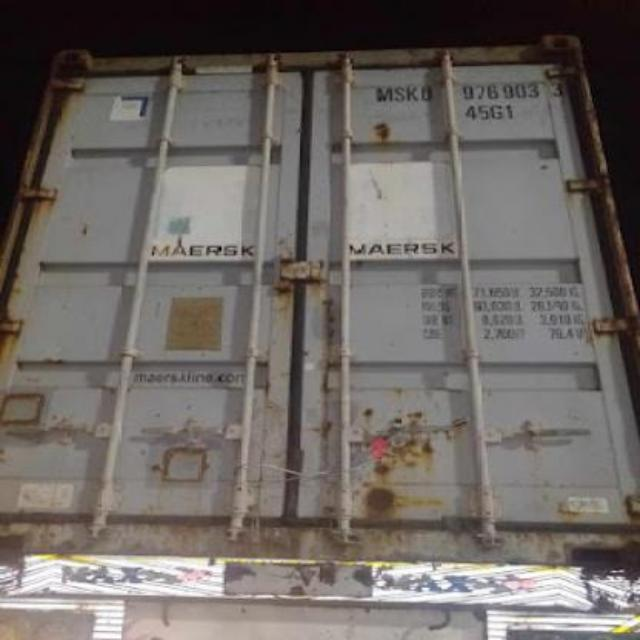0: (516, 82, 528, 102)
3: (528, 83, 542, 103), (550, 81, 564, 97)
6: (488, 82, 500, 102)
7: (474, 83, 486, 101)
9: (502, 82, 516, 102), (462, 83, 476, 101)
K: (406, 84, 419, 106)
M: (374, 84, 394, 104)
S: (394, 84, 406, 106)
U: (421, 85, 434, 106)
